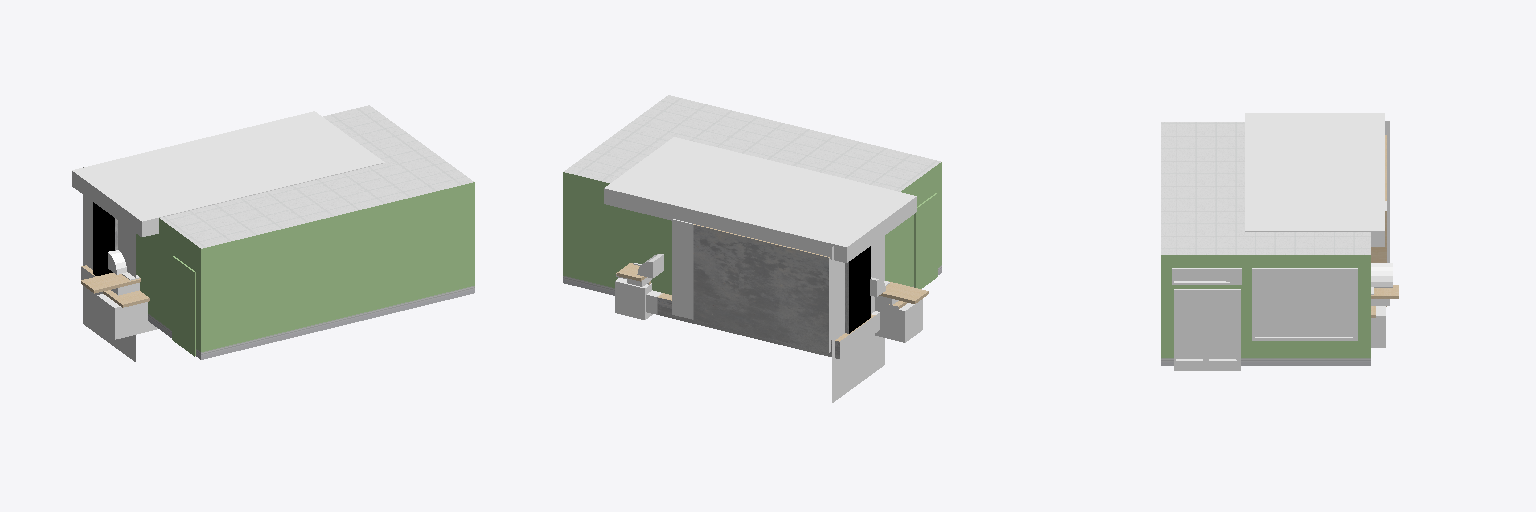
The picture shows the model from 3 angles: view 1: azimuth 30°, elevation 25°; view 2: azimuth 150°, elevation 25°; view 3: azimuth 270°, elevation 25°; orthographic projection.
Visible parts, largest first — view 1: pCube1, pCube19, pCube194, pCube5, pCube31, pCube13; view 2: pCube1, pCube19, pCube35, pCube194, pCube47, pCube5, pCube31, pCube2, pCube13; view 3: pCube1, pCube19, pCube38, pCube44, pCube43, pCube40, pCube2, pCylinder38.
Boxes of the visible parts, box(x1,y1,x2,y2) form: pCube1: box(93, 105, 474, 359); pCube19: box(72, 111, 384, 236); pCube194: box(83, 167, 135, 361); pCube5: box(172, 256, 195, 356); pCube31: box(97, 294, 157, 339); pCube13: box(81, 273, 140, 293); pCube1: box(563, 95, 941, 333); pCube19: box(604, 137, 916, 262); pCube35: box(672, 219, 831, 352); pCube194: box(832, 236, 884, 402); pCube47: box(646, 290, 879, 358); pCube5: box(914, 193, 937, 288); pCube31: box(875, 299, 922, 342); pCube2: box(615, 278, 652, 319); pCube13: box(879, 281, 928, 303); pCube1: box(1161, 122, 1370, 365); pCube19: box(1245, 113, 1384, 246); pCube38: box(1252, 268, 1357, 340); pCube44: box(1207, 289, 1240, 370); pCube43: box(1174, 289, 1206, 370); pCube40: box(1172, 268, 1241, 284); pCube2: box(1371, 306, 1385, 347); pCylinder38: box(1371, 263, 1392, 287).
Size of the model in its own units: 10.61 by 4.98 by 6.79.
3 materials, 1 textured.